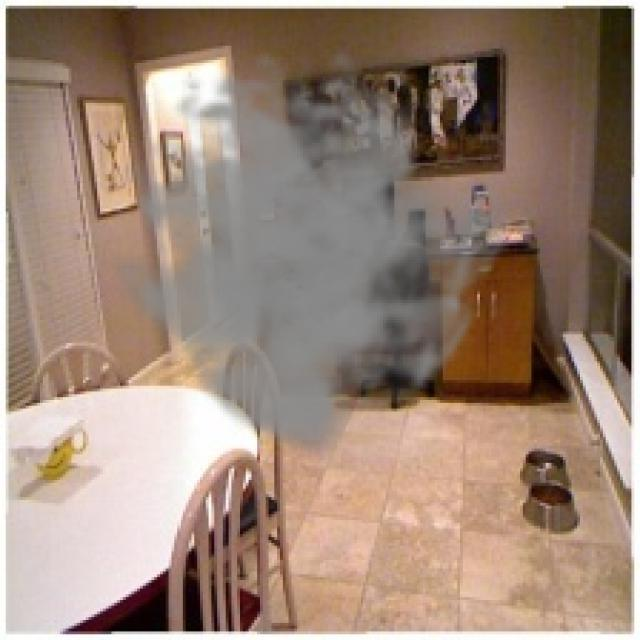Smoke: (97, 49, 517, 458)
